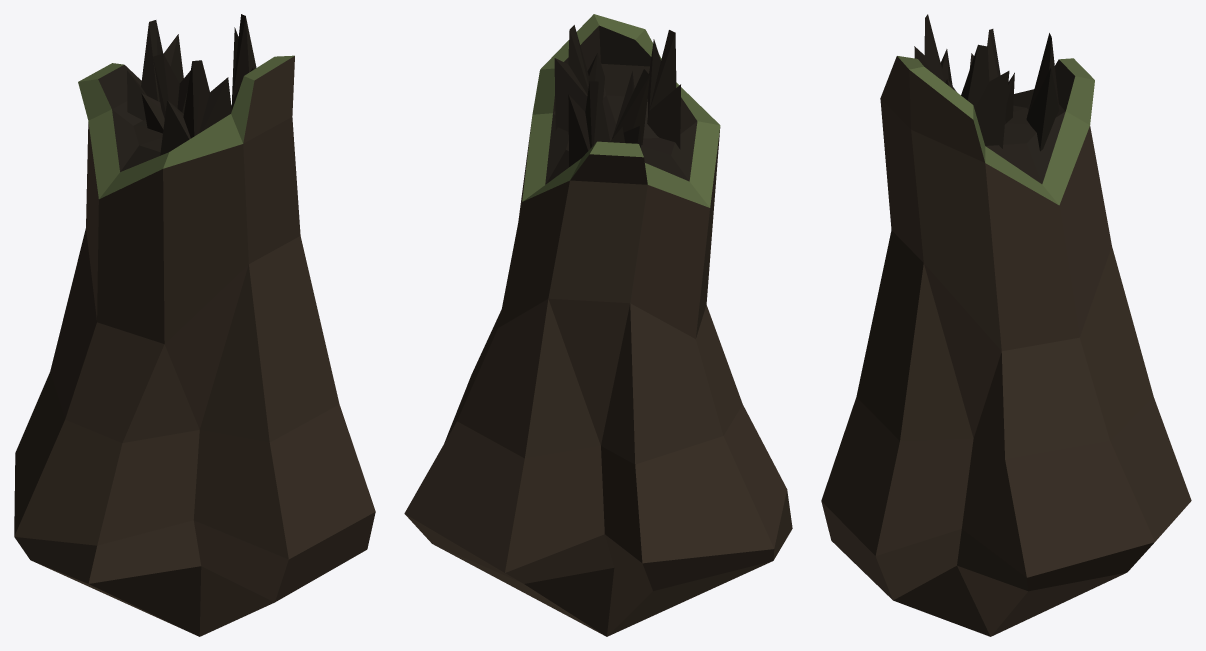
Rendered from synty-tree-stump-03.gltf.
3 views of the same model, side by side, from view 1: azimuth 30°, elevation 25°; view 2: azimuth 150°, elevation 25°; view 3: azimuth 270°, elevation 25° (orthographic). The views are drawn at different scales.
Visible parts, largest first — view 1: SM_Tree_Stump_03; view 2: SM_Tree_Stump_03; view 3: SM_Tree_Stump_03.
Boxes of the visible parts, <box> form: SM_Tree_Stump_03: <box>14,14,375,636</box>; SM_Tree_Stump_03: <box>404,14,792,636</box>; SM_Tree_Stump_03: <box>821,14,1191,636</box>.
Size of the model in its own units: 0.7921 by 1.36 by 0.7492.
Materials: 1 (1 with a texture image).
